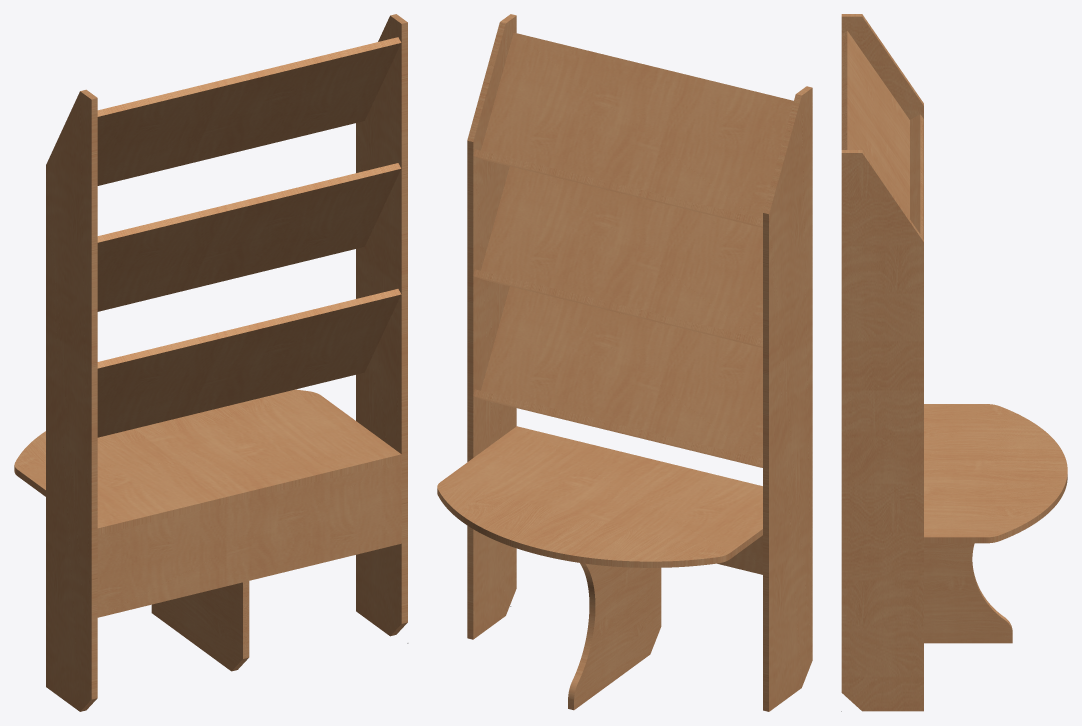
File: vitrina_knizhnaja_1_storonnjaja_so_stolom_3_polki_stol_460.glb
The picture shows the model from 3 angles, left to right: view 1: azimuth 30°, elevation 25°; view 2: azimuth 150°, elevation 25°; view 3: azimuth 270°, elevation 25°; orthographic projection. The views are drawn at different scales.
Parts seen in each view (by area): view 1: Shape_IndexedFaceSet.006, Shape_IndexedFaceSet.009, Shape_IndexedFaceSet.010, Shape_IndexedFaceSet.004, Shape_IndexedFaceSet, Shape_IndexedFaceSet.002, Shape_IndexedFaceSet.007, Shape_IndexedFaceSet.008; view 2: Shape_IndexedFaceSet.004, Shape_IndexedFaceSet.009, Shape_IndexedFaceSet, Shape_IndexedFaceSet.002, Shape_IndexedFaceSet.006, Shape_IndexedFaceSet.007, Shape_IndexedFaceSet.008, Shape_IndexedFaceSet.003, Shape_IndexedFaceSet.001, Shape_IndexedFaceSet.005, Shape_IndexedFaceSet.010; view 3: Shape_IndexedFaceSet.007, Shape_IndexedFaceSet.009, Shape_IndexedFaceSet.004, Shape_IndexedFaceSet.008, Shape_IndexedFaceSet.006, Shape_IndexedFaceSet.005.
Boxes of the visible parts, x1=… form: Shape_IndexedFaceSet.006: x1=46, y1=89, x2=97, y2=711; Shape_IndexedFaceSet.009: x1=14, y1=389, x2=401, y2=534; Shape_IndexedFaceSet.010: x1=97, y1=461, x2=401, y2=617; Shape_IndexedFaceSet.004: x1=97, y1=37, x2=401, y2=185; Shape_IndexedFaceSet: x1=97, y1=163, x2=401, y2=311; Shape_IndexedFaceSet.002: x1=97, y1=289, x2=401, y2=437; Shape_IndexedFaceSet.007: x1=356, y1=14, x2=407, y2=636; Shape_IndexedFaceSet.008: x1=151, y1=581, x2=249, y2=671; Shape_IndexedFaceSet.004: x1=479, y1=32, x2=793, y2=227; Shape_IndexedFaceSet.009: x1=437, y1=426, x2=762, y2=567; Shape_IndexedFaceSet: x1=480, y1=166, x2=762, y2=347; Shape_IndexedFaceSet.002: x1=480, y1=286, x2=762, y2=467; Shape_IndexedFaceSet.006: x1=763, y1=86, x2=812, y2=711; Shape_IndexedFaceSet.007: x1=467, y1=14, x2=516, y2=639; Shape_IndexedFaceSet.008: x1=568, y1=563, x2=661, y2=710; Shape_IndexedFaceSet.003: x1=473, y1=389, x2=762, y2=467; Shape_IndexedFaceSet.001: x1=473, y1=269, x2=762, y2=347; Shape_IndexedFaceSet.005: x1=473, y1=149, x2=762, y2=227; Shape_IndexedFaceSet.010: x1=717, y1=535, x2=762, y2=574; Shape_IndexedFaceSet.007: x1=841, y1=150, x2=923, y2=711; Shape_IndexedFaceSet.009: x1=924, y1=404, x2=1067, y2=543; Shape_IndexedFaceSet.004: x1=842, y1=31, x2=909, y2=218; Shape_IndexedFaceSet.008: x1=924, y1=543, x2=1012, y2=643; Shape_IndexedFaceSet.006: x1=841, y1=14, x2=923, y2=238; Shape_IndexedFaceSet.005: x1=910, y1=114, x2=923, y2=238.
Size of the model in its own units: 801 by 1501 by 551.
12 materials, 11 textured.
